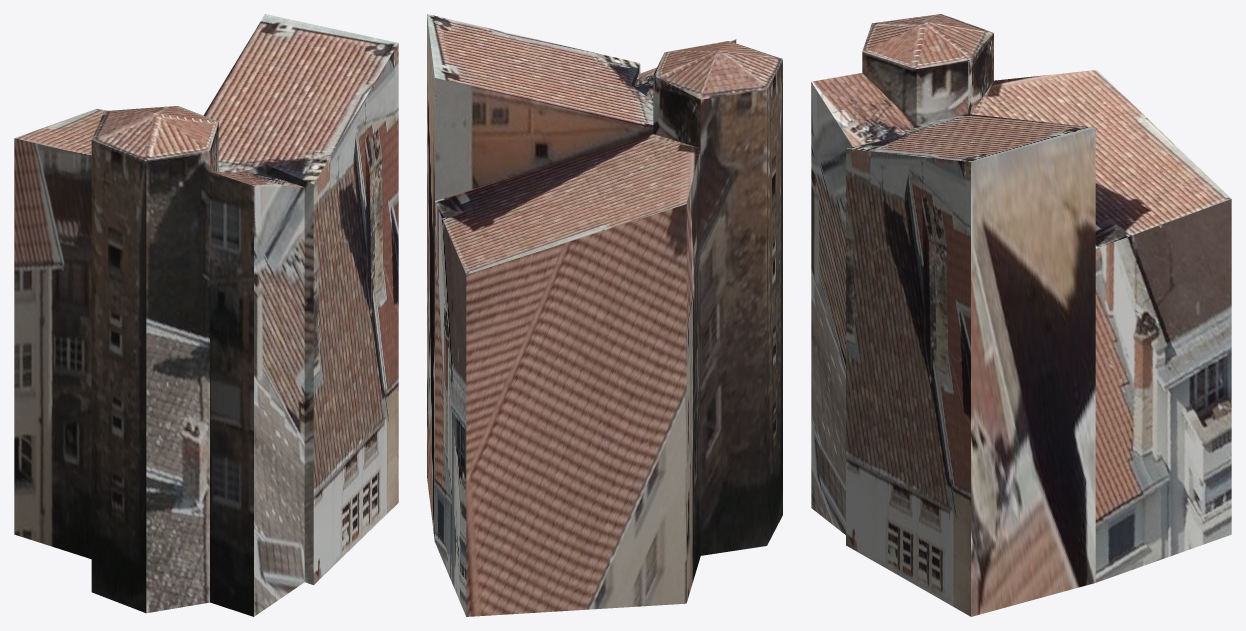
The picture shows the model from 3 angles, left to right: view 1: azimuth 30°, elevation 25°; view 2: azimuth 150°, elevation 25°; view 3: azimuth 270°, elevation 25°; orthographic projection.
Parts seen in each view (by area): view 1: Z_UP; view 2: Z_UP; view 3: Z_UP.
Part boxes in pixels (x1,y1,x2,y2): Z_UP: (14,14,398,616); Z_UP: (427,14,782,616); Z_UP: (811,14,1231,616).
Size of the model in its own units: 13.68 by 19.12 by 15.64.
2 materials, 1 textured.
